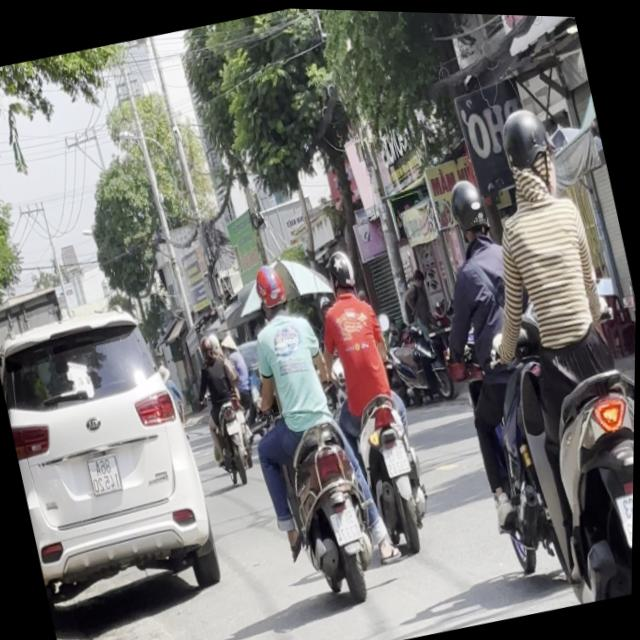helmet: (492, 96, 562, 198), (444, 168, 494, 246), (249, 255, 293, 318), (322, 242, 362, 297)
licenseplate: (440, 80, 639, 608), (406, 157, 594, 595), (212, 244, 395, 614), (297, 233, 446, 560)
nohelmet: (330, 502, 363, 542), (381, 438, 412, 476), (616, 480, 635, 540)
